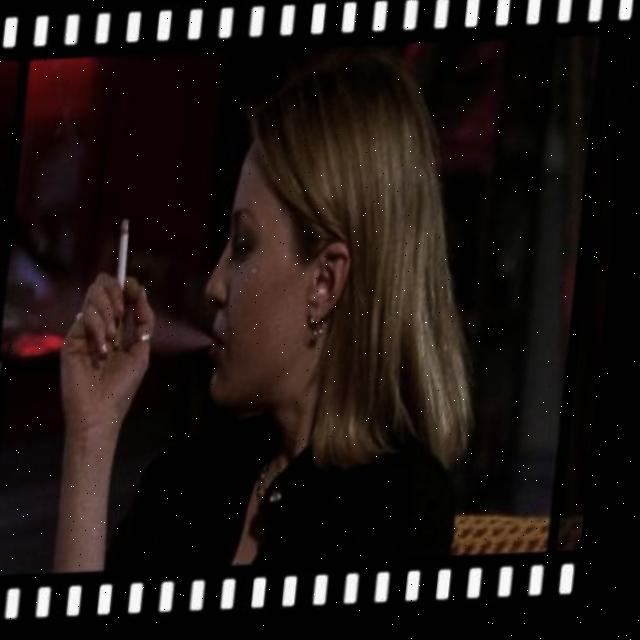cigarette: (119, 218, 139, 294)
